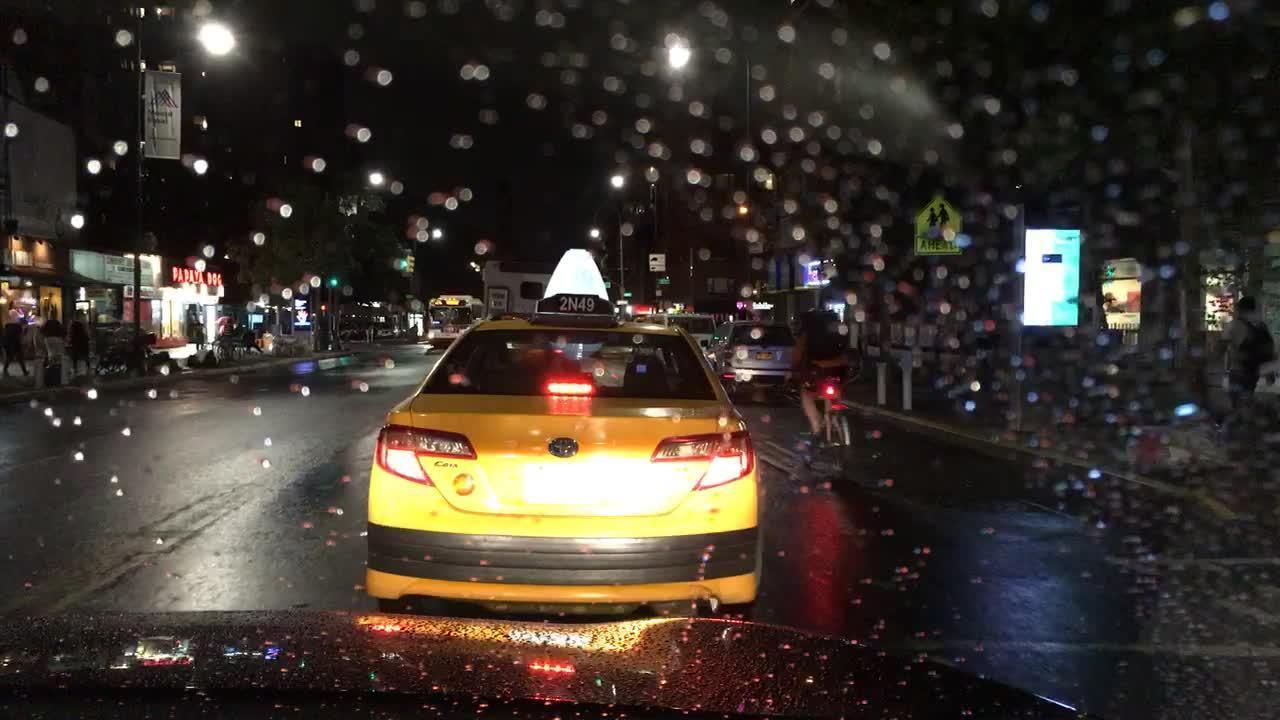Toyota: (528, 423, 601, 469)
